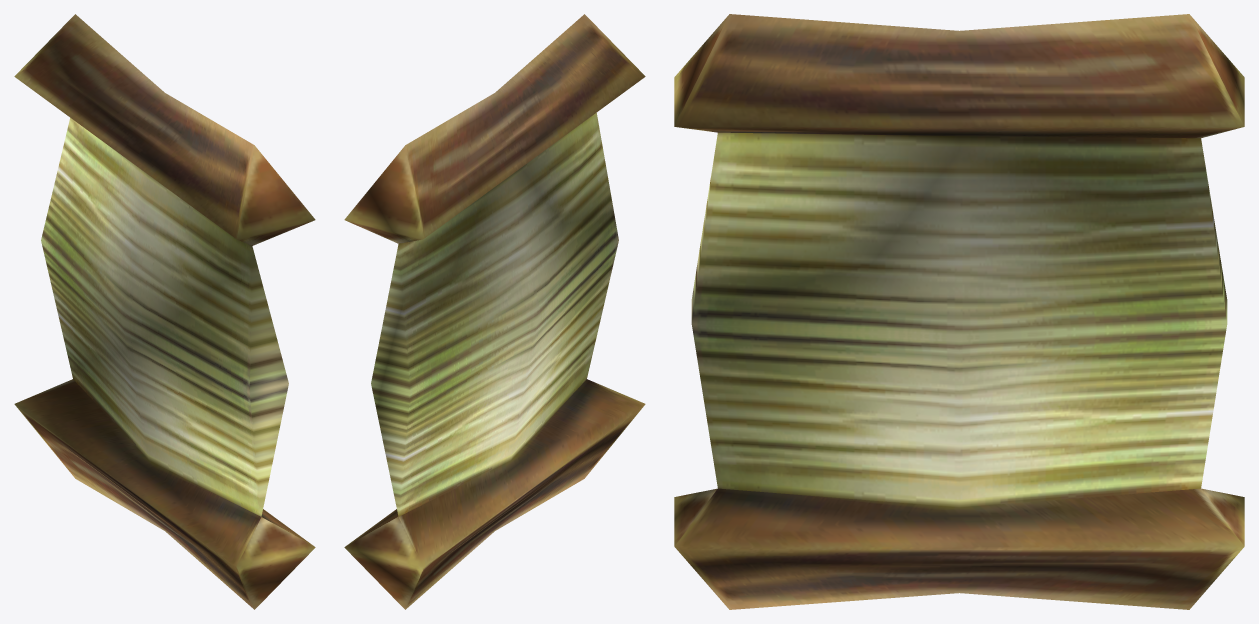
File: clothyarnyellow.obj
3 renders of one model, left to right at view 1: azimuth 30°, elevation 25°; view 2: azimuth 150°, elevation 25°; view 3: azimuth 270°, elevation 25°, orthographic. The views are drawn at different scales.
Parts seen in each view (by area): view 1: clothyarnyellow; view 2: clothyarnyellow; view 3: clothyarnyellow.
Boxes of the visible parts, x1=… form: clothyarnyellow: x1=14, y1=14, x2=315, y2=609; clothyarnyellow: x1=344, y1=14, x2=645, y2=609; clothyarnyellow: x1=674, y1=14, x2=1244, y2=609.
Size of the model in its own units: 0.0912 by 0.4803 by 0.4165.
1 material, 1 textured.
